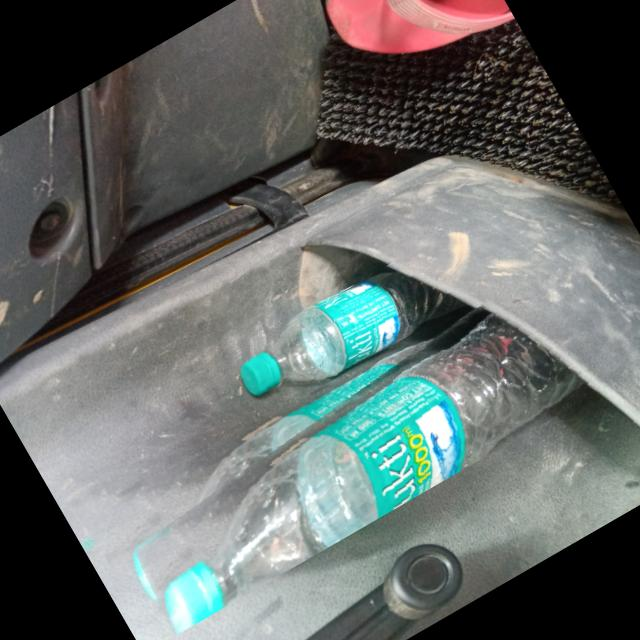plastic bottle: (96, 229, 640, 637), (223, 228, 484, 420)
